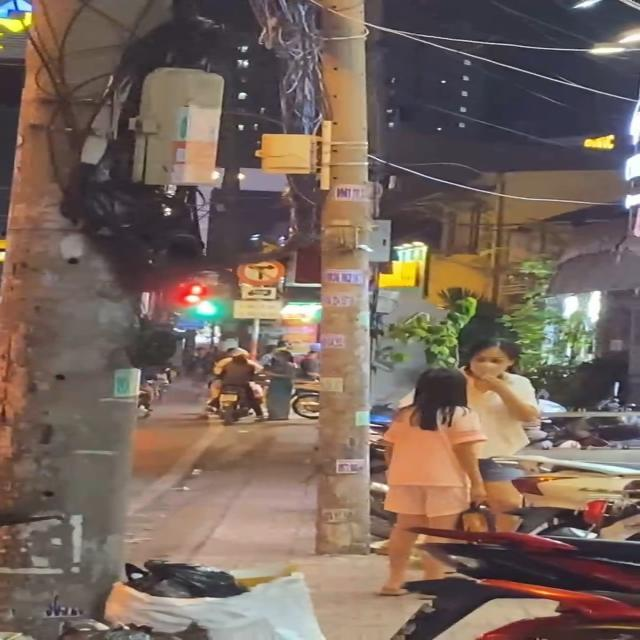137-cam-re-trai-va-re-phai: (236, 255, 286, 285)
